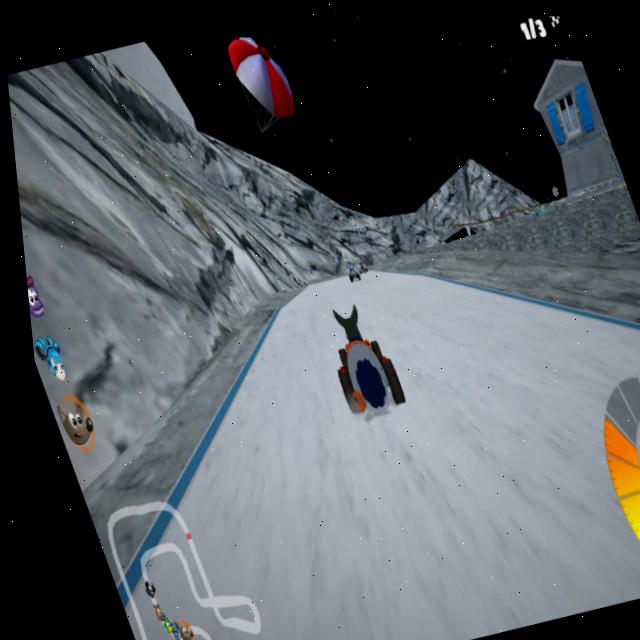enemy_kart: (334, 255, 367, 282)
off_track: (14, 114, 334, 343), (441, 173, 640, 307)
player_kart: (302, 298, 404, 423)
